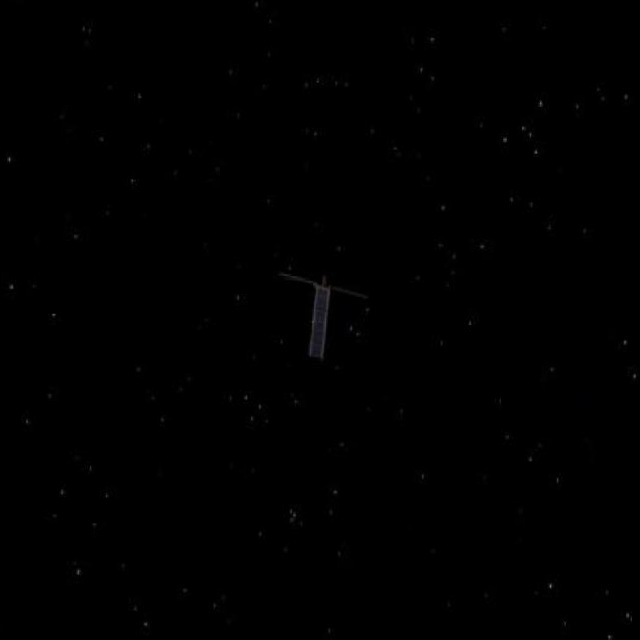medium_debris: (278, 256, 375, 365)
